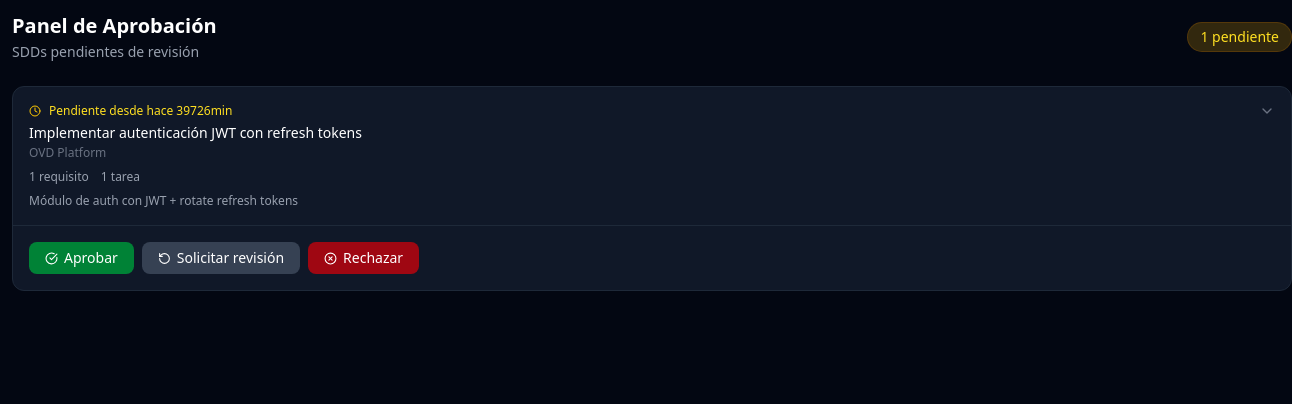
it: Approval — flujo de revisión › el botón Enviar revisión se habilita al escribir un comentario
This screenshot has width=1292, height=404.
Click the button "Solicitar revisión".
click(221, 258)  # box left=142, top=242, right=300, bottom=274
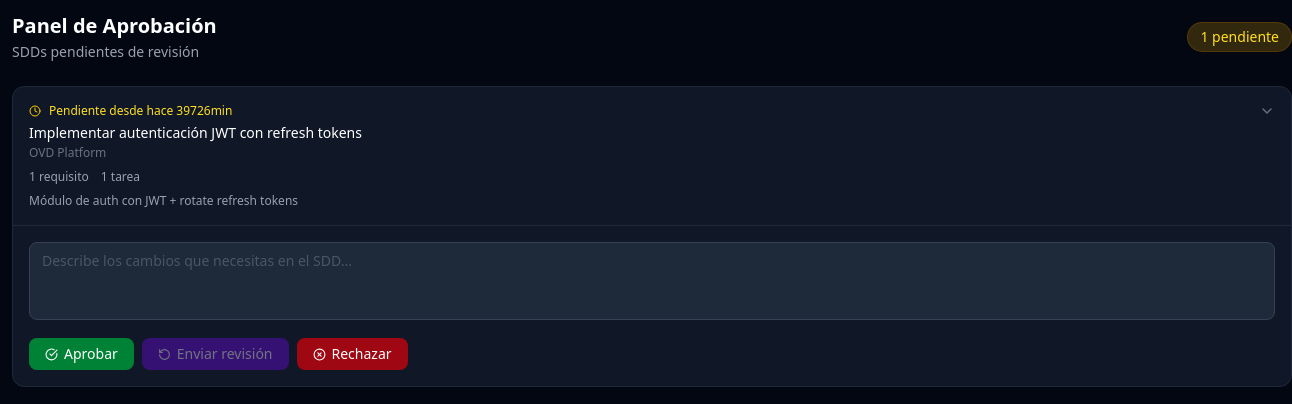
Type "Necesito más detalle en R1" into the text box with placeholder "Describe los cambios que necesitas en el SDD...".
click(652, 281); type("Necesito más detalle en R1")  # box left=29, top=242, right=1275, bottom=320
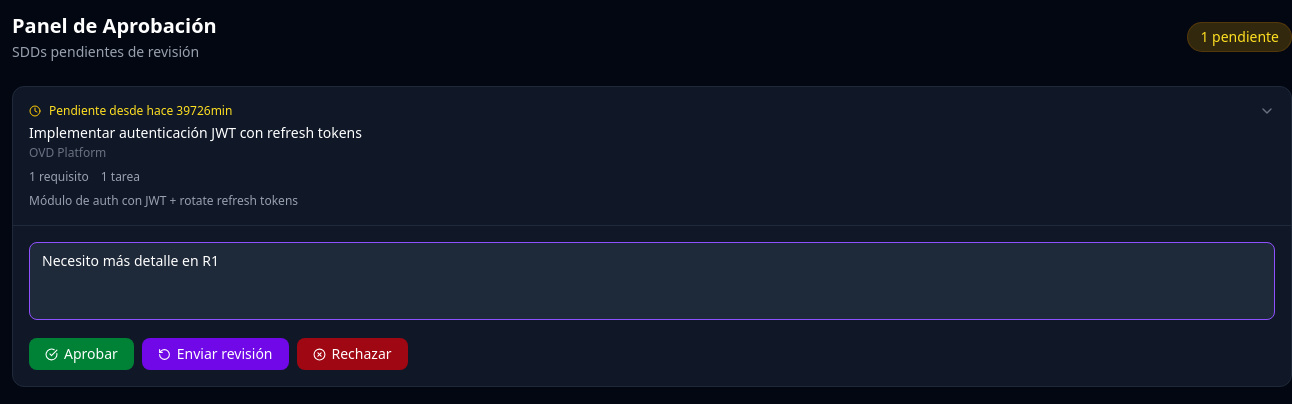
Expected: the button "Enviar revisión" is enabled, left=142, top=338, right=288, bottom=370
